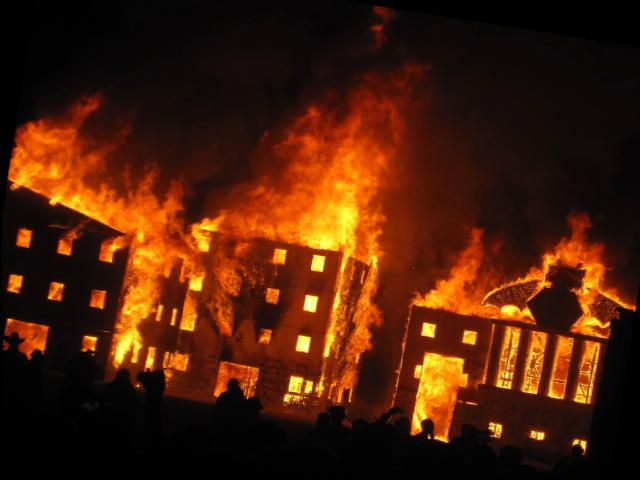fire: (0, 52, 429, 428), (372, 167, 639, 471)
